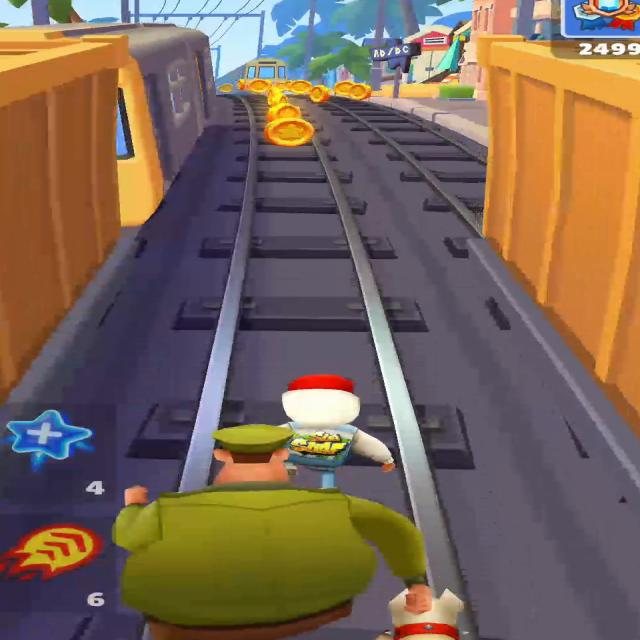train: (478, 36, 639, 413), (0, 29, 128, 400), (51, 23, 215, 226), (241, 58, 286, 81)
